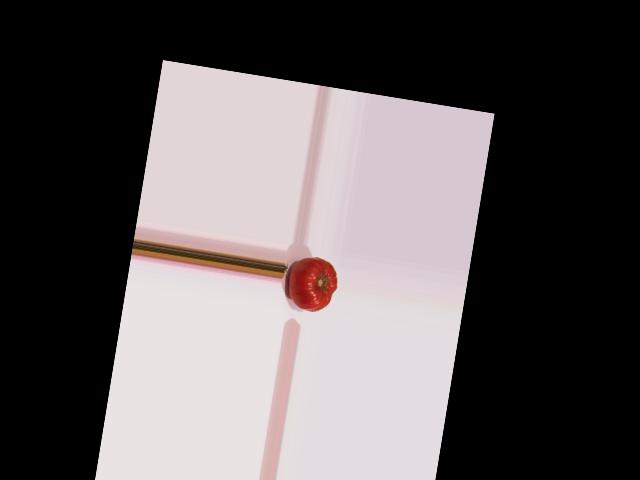tomato: (285, 254, 340, 314)
